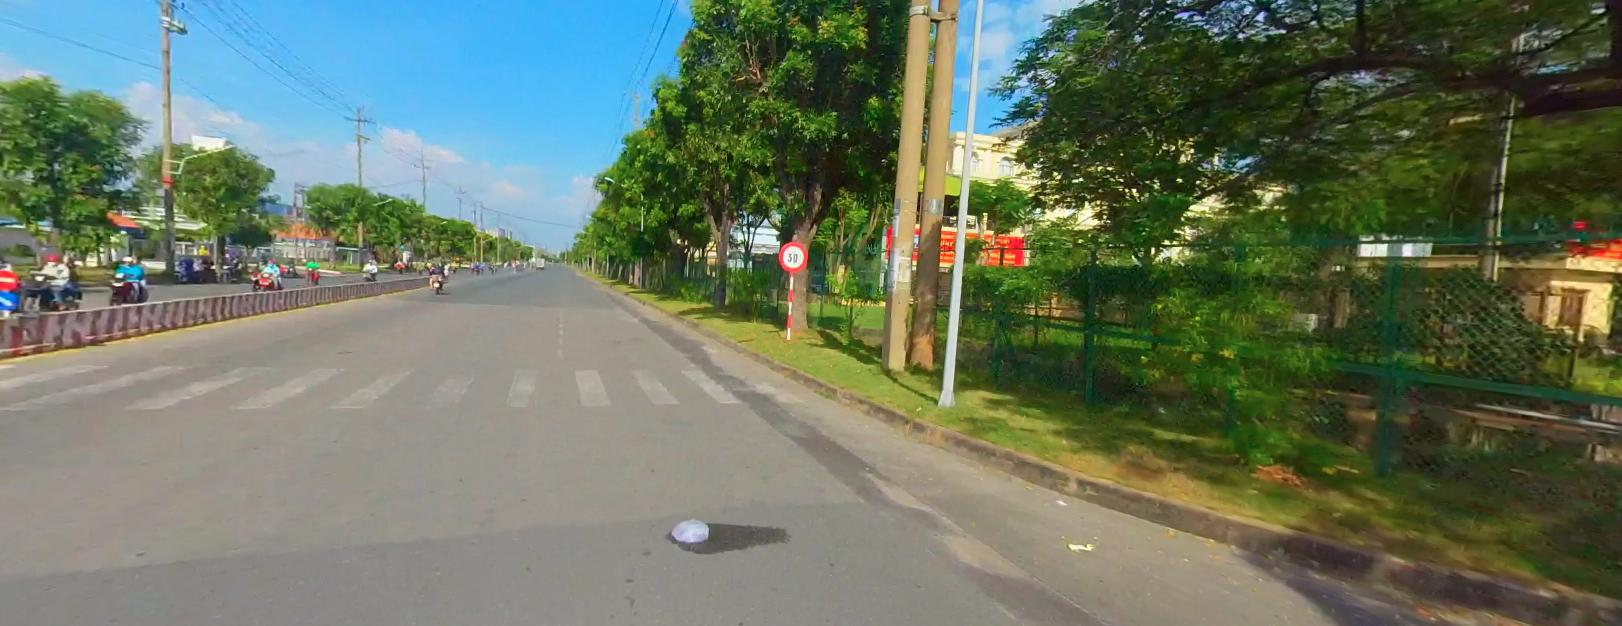Cam nguoc chieu: (0, 267, 18, 288)
Gioi han toc do: (778, 240, 806, 271)
Hieu lenh: (0, 290, 19, 309)
